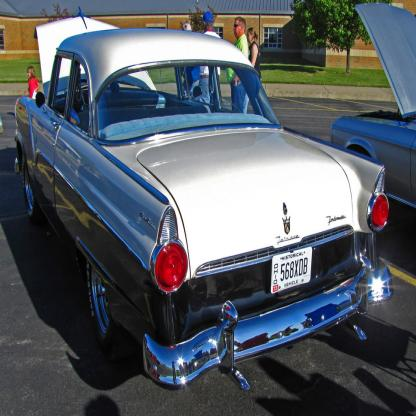Car: (22, 31, 403, 390), (327, 1, 416, 213)
